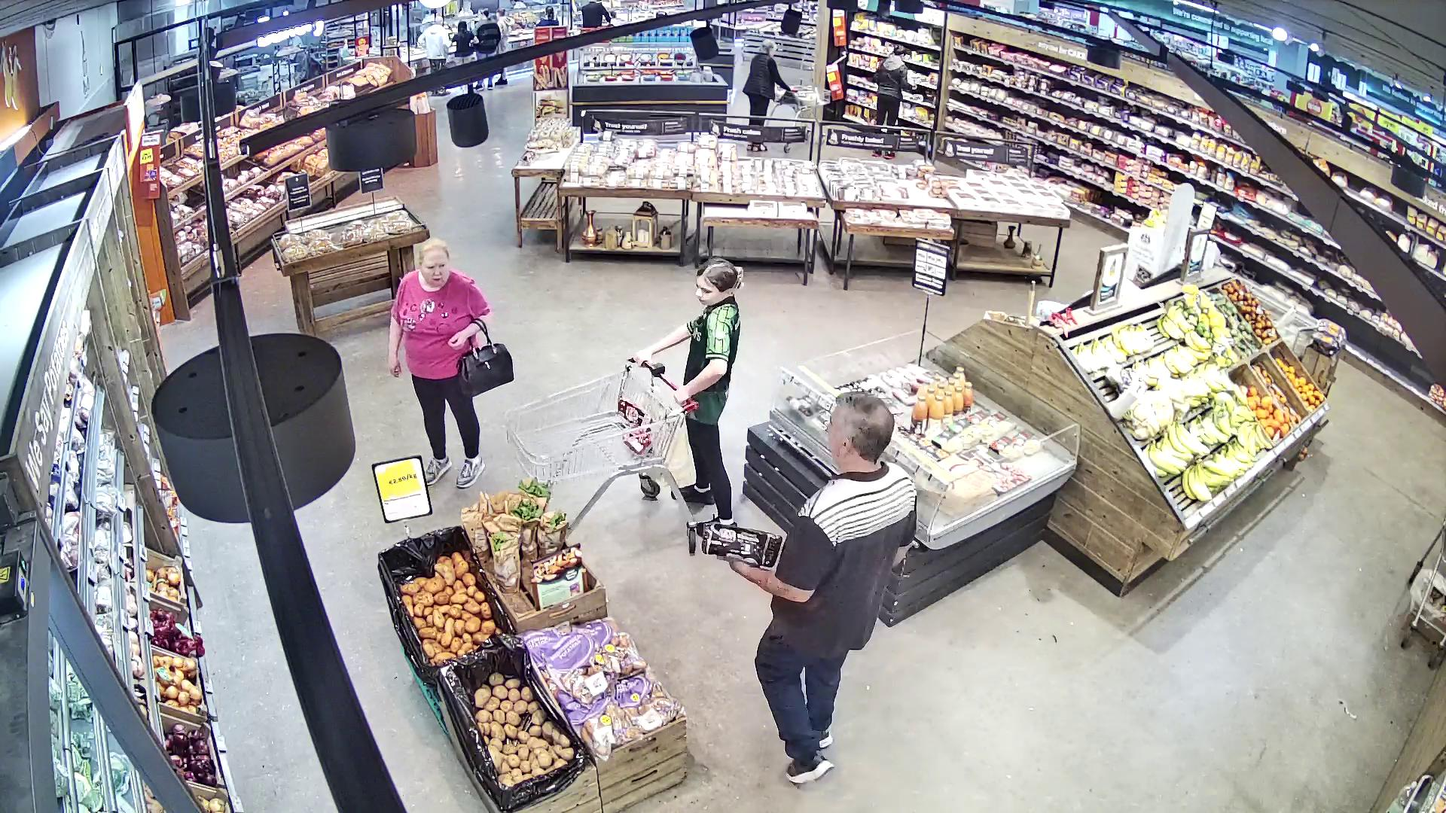backpack-or-handbag: (457, 319, 515, 399)
filled-shopping-bags: (640, 386, 696, 490)
filled-trolly: (502, 356, 700, 558)
person: (754, 390, 916, 787), (633, 257, 743, 530), (388, 239, 490, 489)
person-with-backpack-handbag: (387, 238, 515, 487)
person-with-basket-trolly-and-shopping-bag: (501, 257, 744, 558)
person-with-carrying-item: (701, 388, 916, 785)
